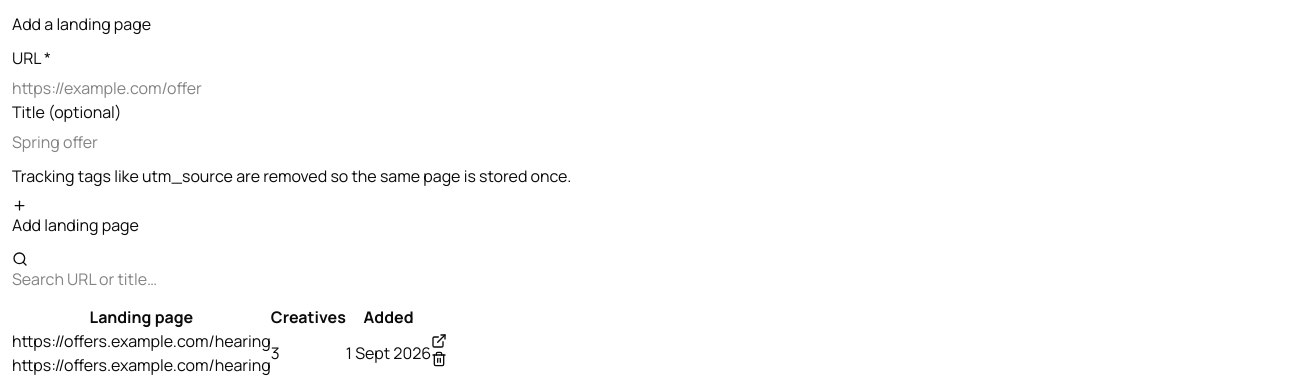
Test: LandingPagesList › refuses a junk URL
Type "not a url" into the field with placeholder "https://example.com/offer" at coordinates (652, 88), box x1=12 y1=76 x2=1292 y2=100
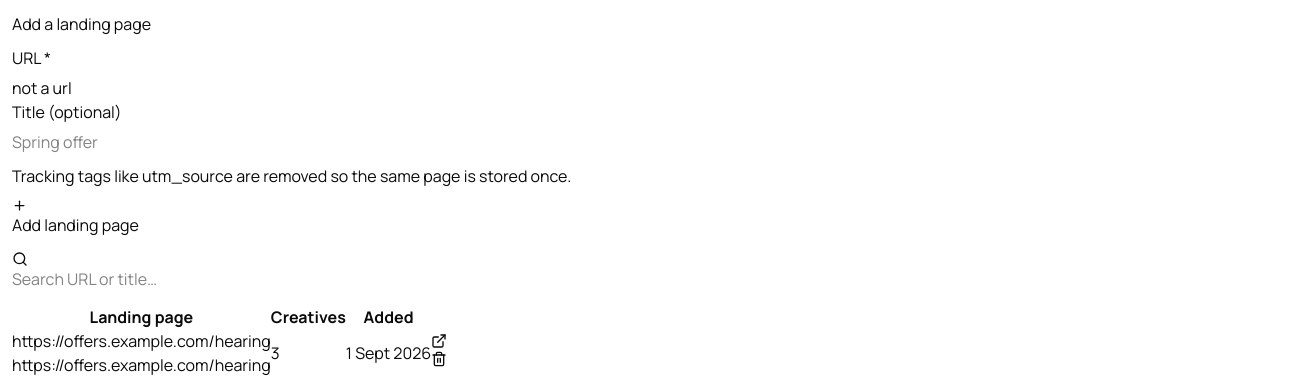
Click the button "Add landing page" at coordinates (76, 218), box x1=12 y1=198 x2=139 y2=237
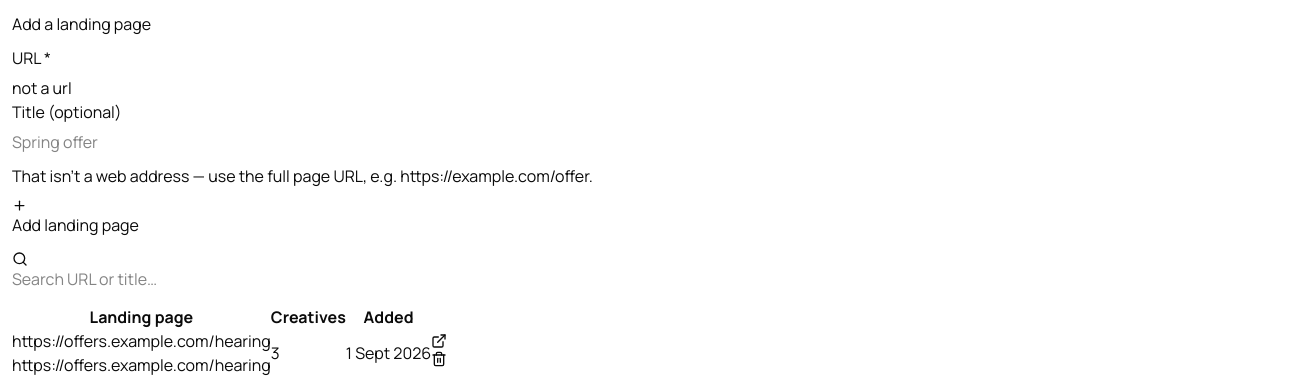
Expected: the text "isn't a web address" is shown, x1=12 y1=165 x2=593 y2=187
